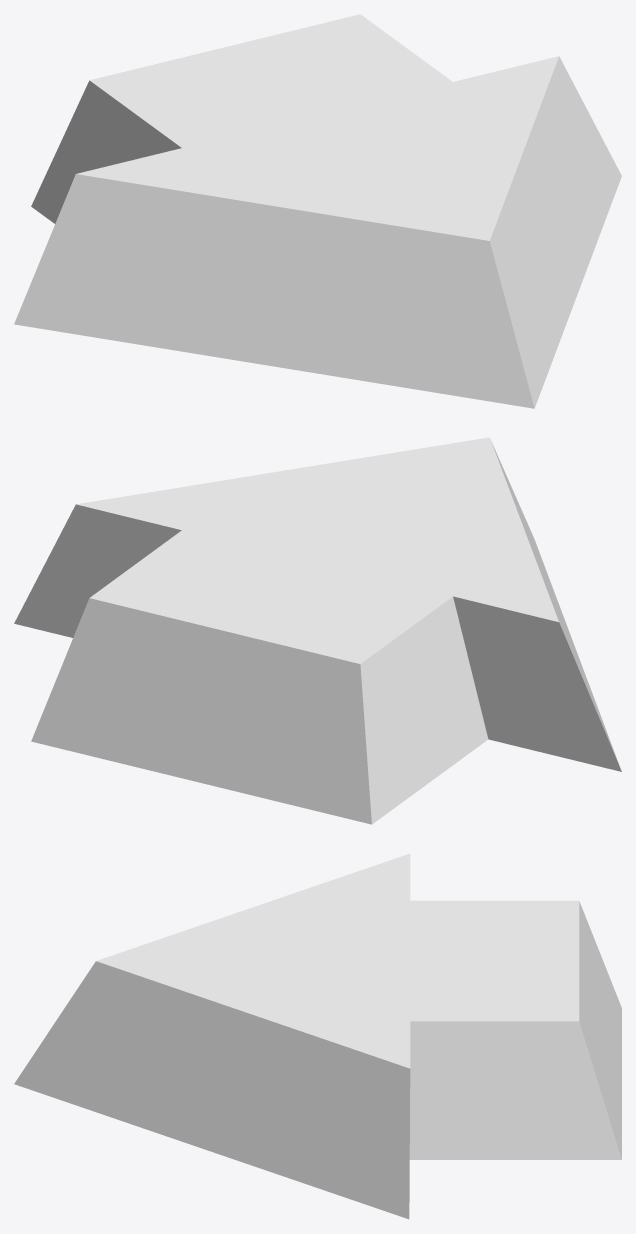
File: Head_Prop_Arrow_01.fbx
The picture shows the model from 3 angles, top to bottom: view 1: azimuth 30°, elevation 25°; view 2: azimuth 150°, elevation 25°; view 3: azimuth 270°, elevation 25°; orthographic projection. The views are drawn at different scales.
Parts seen in each view (by area): view 1: Head_Prop_Arrow_01; view 2: Head_Prop_Arrow_01; view 3: Head_Prop_Arrow_01.
Boxes of the visible parts, bbox=[...] form: Head_Prop_Arrow_01: bbox=[14, 14, 621, 408]; Head_Prop_Arrow_01: bbox=[14, 437, 621, 824]; Head_Prop_Arrow_01: bbox=[14, 853, 621, 1219].
Bounding box in the file's own units: 55.92 × 11.85 × 53.06.
